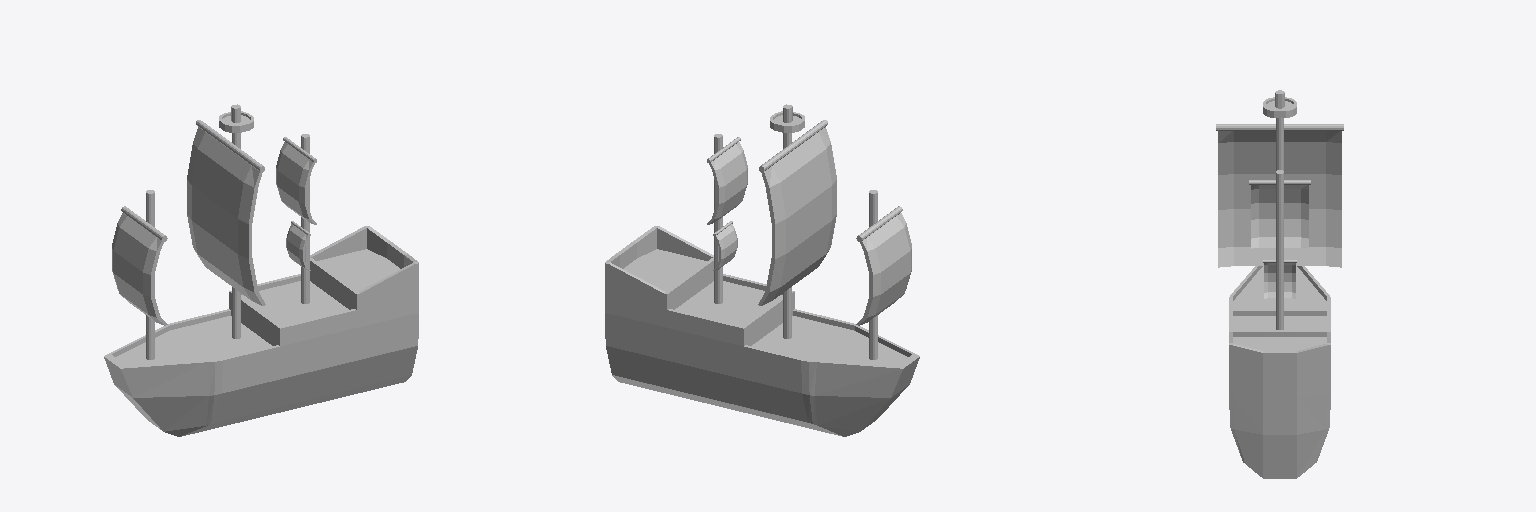
The model's file is boat ex.obj.
3 views of the same model, side by side, from view 1: azimuth 30°, elevation 25°; view 2: azimuth 150°, elevation 25°; view 3: azimuth 270°, elevation 25° (orthographic).
Visible parts, largest first — view 1: pCube14, pCube13 polySurface6, pCube13 polySurface4, pCube13 polySurface7, pCube13 polySurface11, pCube13 polySurface5, pCube13 polySurface12, pCube13 polySurface9, polySurface10 pCube13; view 2: pCube14, pCube13 polySurface6, pCube13 polySurface4, pCube13 polySurface7, pCube13 polySurface11, pCube13 polySurface5, pCube13 polySurface12, pCube13 polySurface9, polySurface10 pCube13; view 3: pCube14, pCube13 polySurface6, pCube13 polySurface7, pCube13 polySurface5, pCube13 polySurface11, pCube13 polySurface9, polySurface10 pCube13.
Boxes of the visible parts, x1=… form: pCube14: x1=104, y1=226, x2=418, y2=436; pCube13 polySurface6: x1=187, y1=127, x2=265, y2=305; pCube13 polySurface4: x1=112, y1=213, x2=167, y2=325; pCube13 polySurface7: x1=276, y1=142, x2=316, y2=224; pCube13 polySurface11: x1=219, y1=104, x2=253, y2=338; pCube13 polySurface5: x1=301, y1=134, x2=309, y2=303; pCube13 polySurface12: x1=146, y1=190, x2=154, y2=359; pCube13 polySurface9: x1=286, y1=224, x2=310, y2=270; polySurface10 pCube13: x1=196, y1=120, x2=264, y2=171; pCube14: x1=605, y1=226, x2=919, y2=436; pCube13 polySurface6: x1=758, y1=127, x2=836, y2=305; pCube13 polySurface4: x1=856, y1=213, x2=911, y2=325; pCube13 polySurface7: x1=707, y1=142, x2=747, y2=224; pCube13 polySurface11: x1=770, y1=104, x2=804, y2=338; pCube13 polySurface5: x1=714, y1=134, x2=722, y2=303; pCube13 polySurface12: x1=869, y1=190, x2=877, y2=359; pCube13 polySurface9: x1=713, y1=224, x2=737, y2=270; polySurface10 pCube13: x1=759, y1=120, x2=827, y2=171; pCube14: x1=1229, y1=266, x2=1330, y2=478; pCube13 polySurface6: x1=1218, y1=130, x2=1341, y2=267; pCube13 polySurface7: x1=1251, y1=185, x2=1308, y2=248; pCube13 polySurface5: x1=1276, y1=170, x2=1283, y2=329; pCube13 polySurface11: x1=1263, y1=90, x2=1296, y2=170; pCube13 polySurface9: x1=1264, y1=263, x2=1295, y2=298; polySurface10 pCube13: x1=1216, y1=124, x2=1343, y2=130.
Bounding box in the file's own units: 10.23 × 10.48 × 3.92.